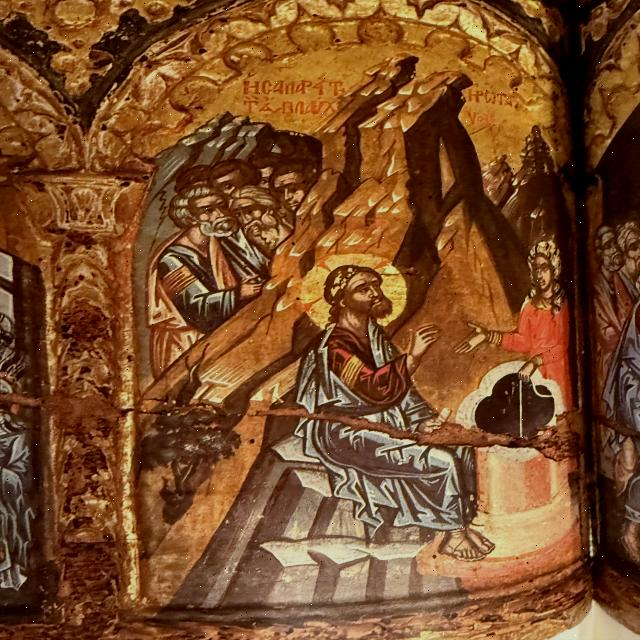aura: (302, 253, 410, 335)
christ: (284, 251, 487, 559)
